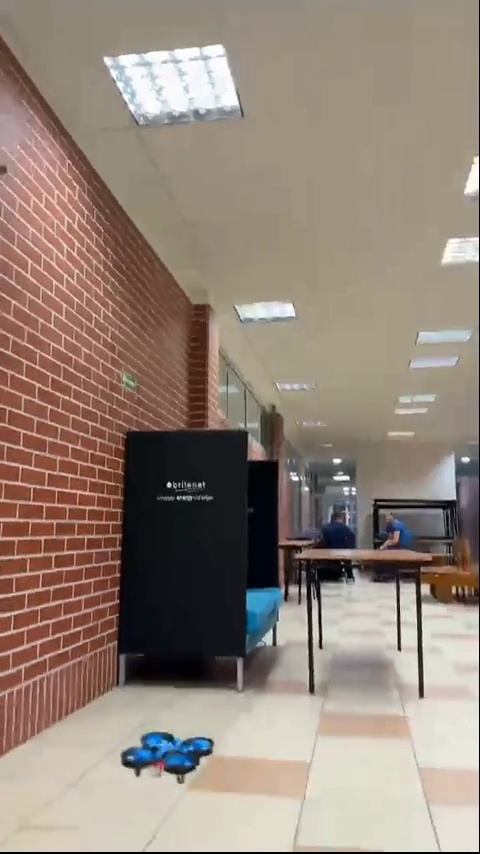drone: (121, 727, 210, 772)
no vest: (306, 503, 361, 555), (372, 515, 420, 563)
